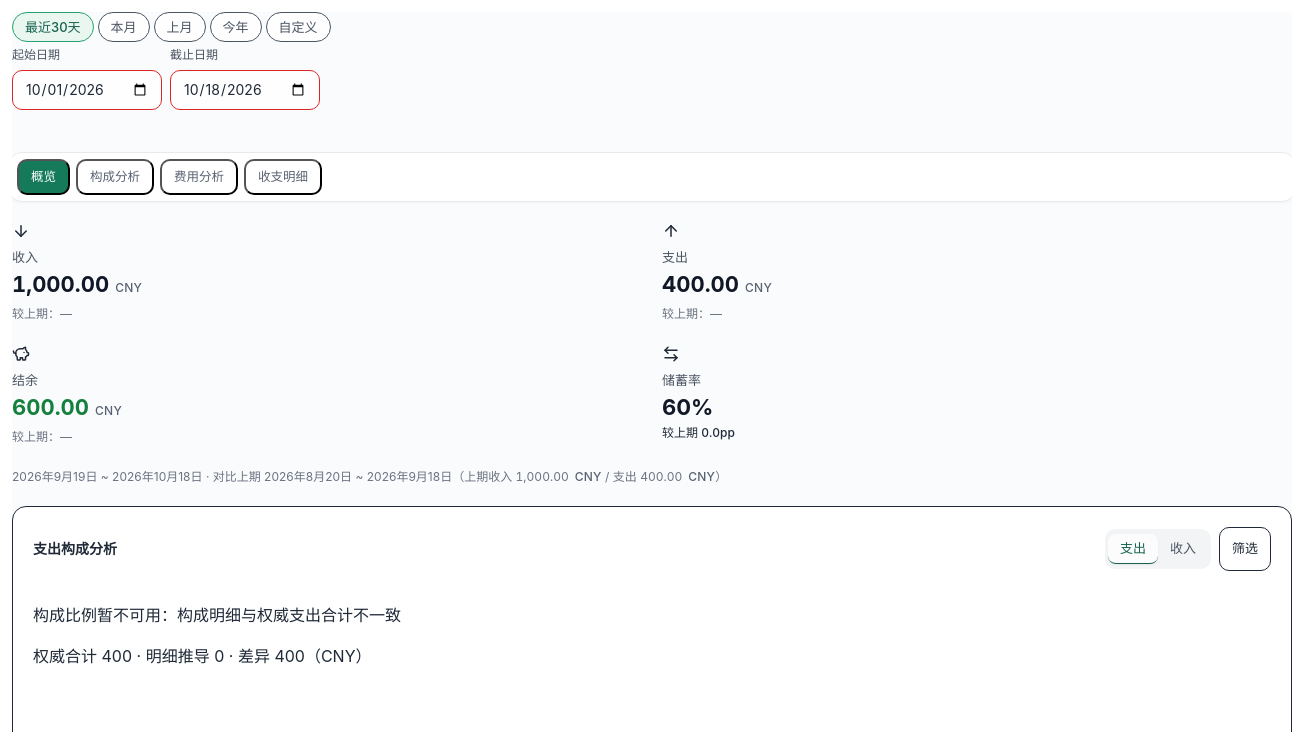
Test case: PeriodToolbar › 收支页自定义期间无效时保留最后有效查询且不发新请求
Click the button "自定义": (298, 27) [266,12,331,42]
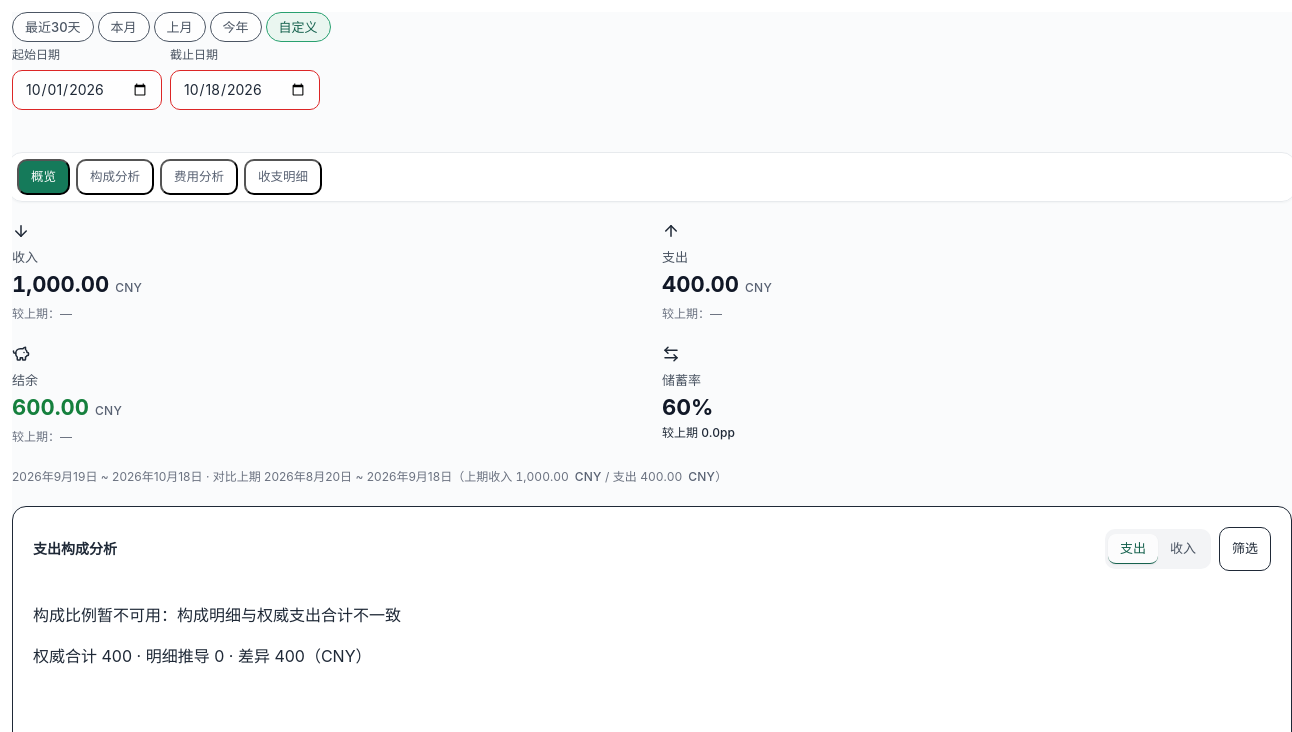
In the date field labelled "起始日期": (87, 90) [12,70,162,110], type "2026-12-31"
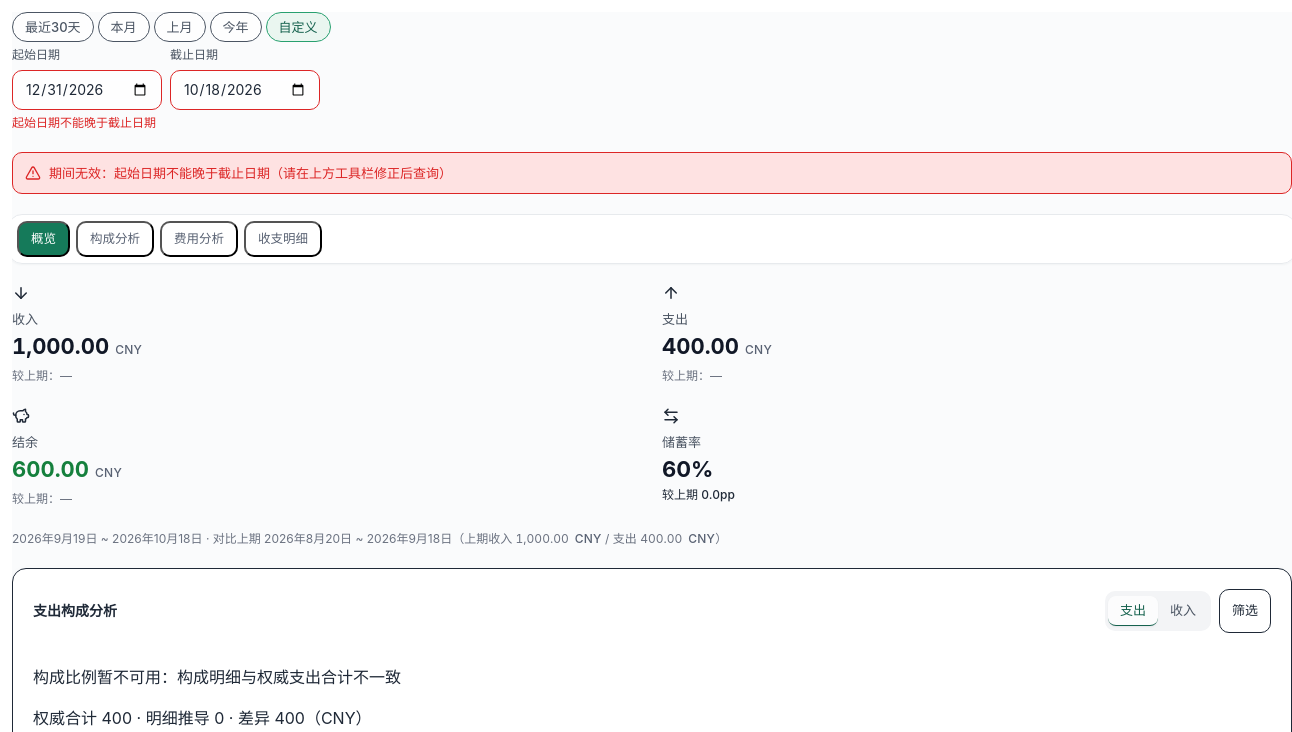
Check: the text "期间无效：起始日期不能晚于截止日期（请在上方工具栏修正后查询）" is shown, box [49,163,452,183]
